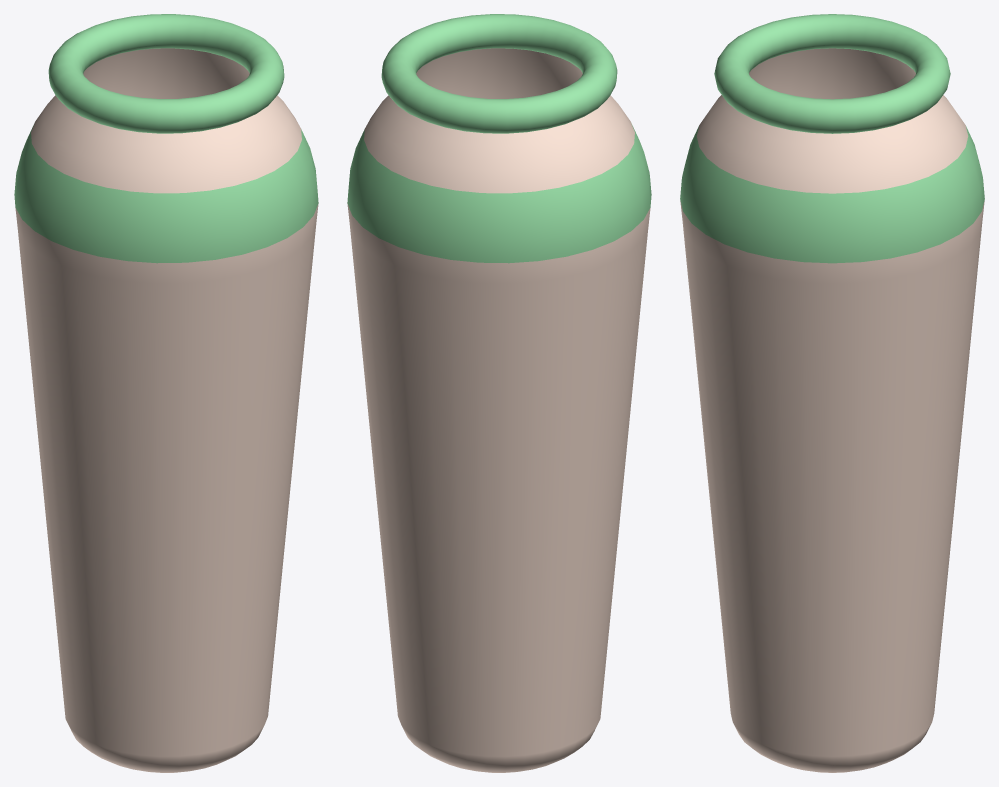
File: pottery_tall.fbx
3 renders of one model, left to right at view 1: azimuth 30°, elevation 25°; view 2: azimuth 150°, elevation 25°; view 3: azimuth 270°, elevation 25°, orthographic.
Visible parts, largest first — view 1: pottery_tall, rim; view 2: pottery_tall, rim; view 3: pottery_tall, rim.
Boxes of the visible parts, <box> form: pottery_tall: <box>14,48,318,772</box>; rim: <box>48,14,284,133</box>; pottery_tall: <box>347,48,651,772</box>; rim: <box>381,14,617,133</box>; pottery_tall: <box>680,48,984,772</box>; rim: <box>714,14,950,133</box>.
Bounding box in the file's own units: 1.15 × 2.87 × 1.15.
